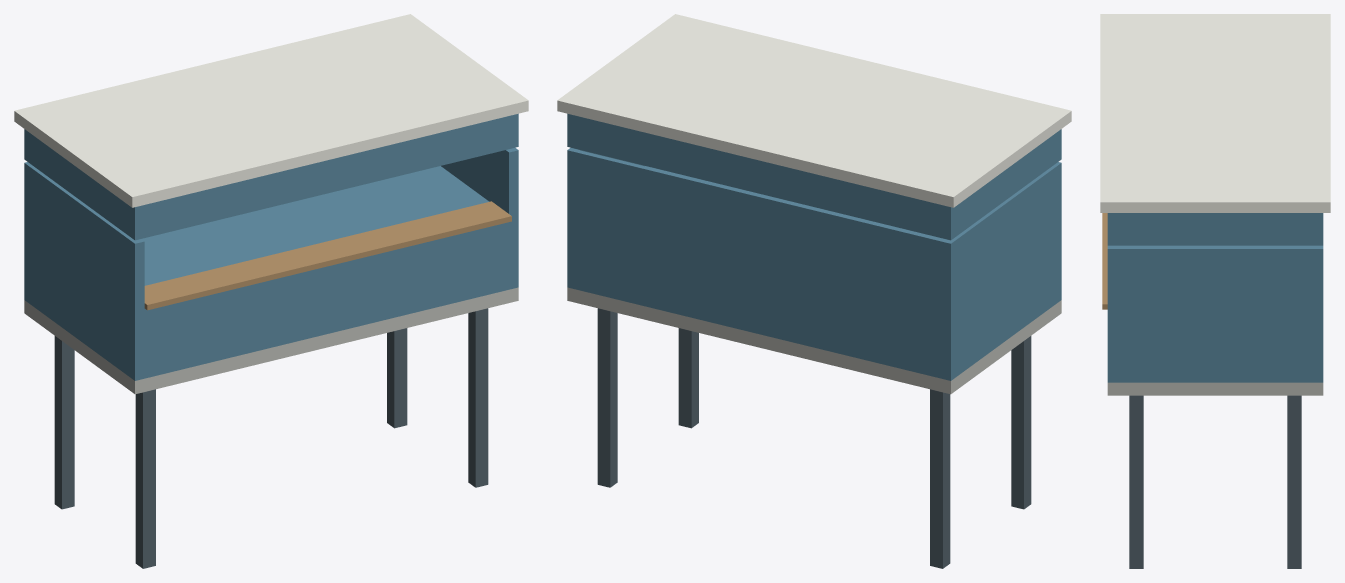
File: pressbox.glb
3 views of the same model, side by side, from view 1: azimuth 30°, elevation 25°; view 2: azimuth 150°, elevation 25°; view 3: azimuth 270°, elevation 25° (orthographic). The views are drawn at different scales.
Parts seen in each view (by area): view 1: press-box-cabin; view 2: press-box-cabin; view 3: press-box-cabin.
Boxes of the visible parts, x1,y1,x2,y2 form: press-box-cabin: (14, 14, 528, 568); press-box-cabin: (557, 14, 1071, 568); press-box-cabin: (1100, 14, 1330, 568).
Bounding box in the file's own units: 6.2 × 5.81 × 3.2.
